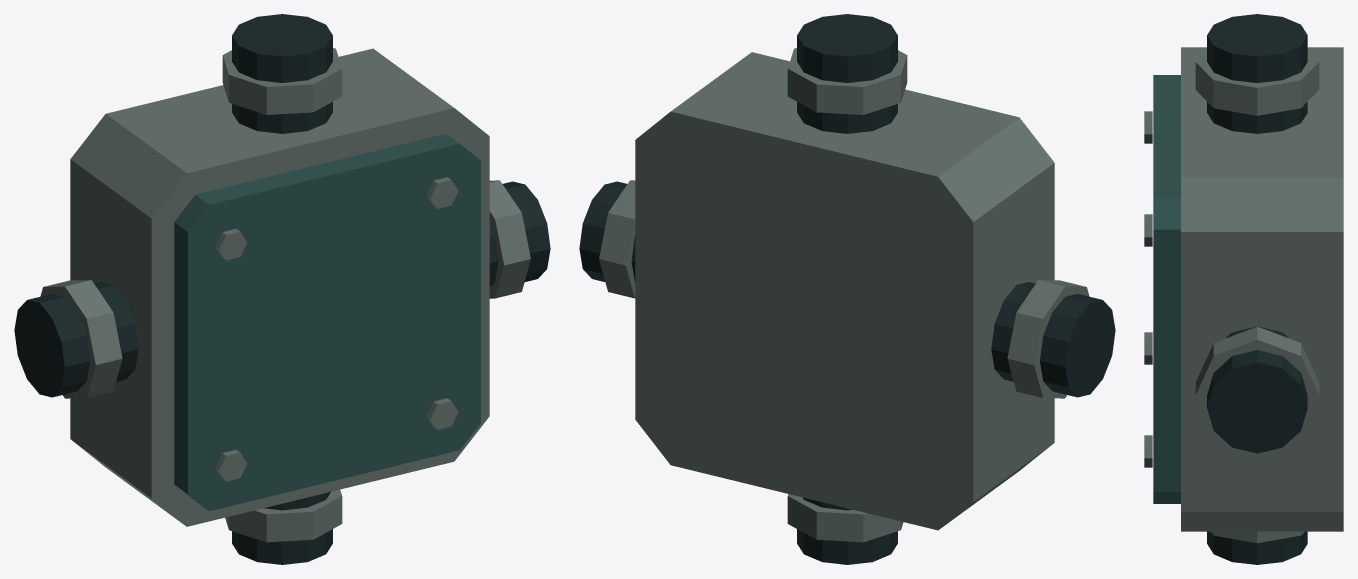
The model's file is conduit-junction.glb.
The picture shows the model from 3 angles, left to right: view 1: azimuth 30°, elevation 25°; view 2: azimuth 150°, elevation 25°; view 3: azimuth 270°, elevation 25°; orthographic projection.
Visible parts, largest first — view 1: conduit-junction; view 2: conduit-junction; view 3: conduit-junction.
Boxes of the visible parts, x1=… form: conduit-junction: x1=14, y1=14, x2=550, y2=564; conduit-junction: x1=579, y1=14, x2=1115, y2=564; conduit-junction: x1=1144, y1=14, x2=1343, y2=564.
Bounding box in the file's own units: 0.345 × 0.345 × 0.1225.
